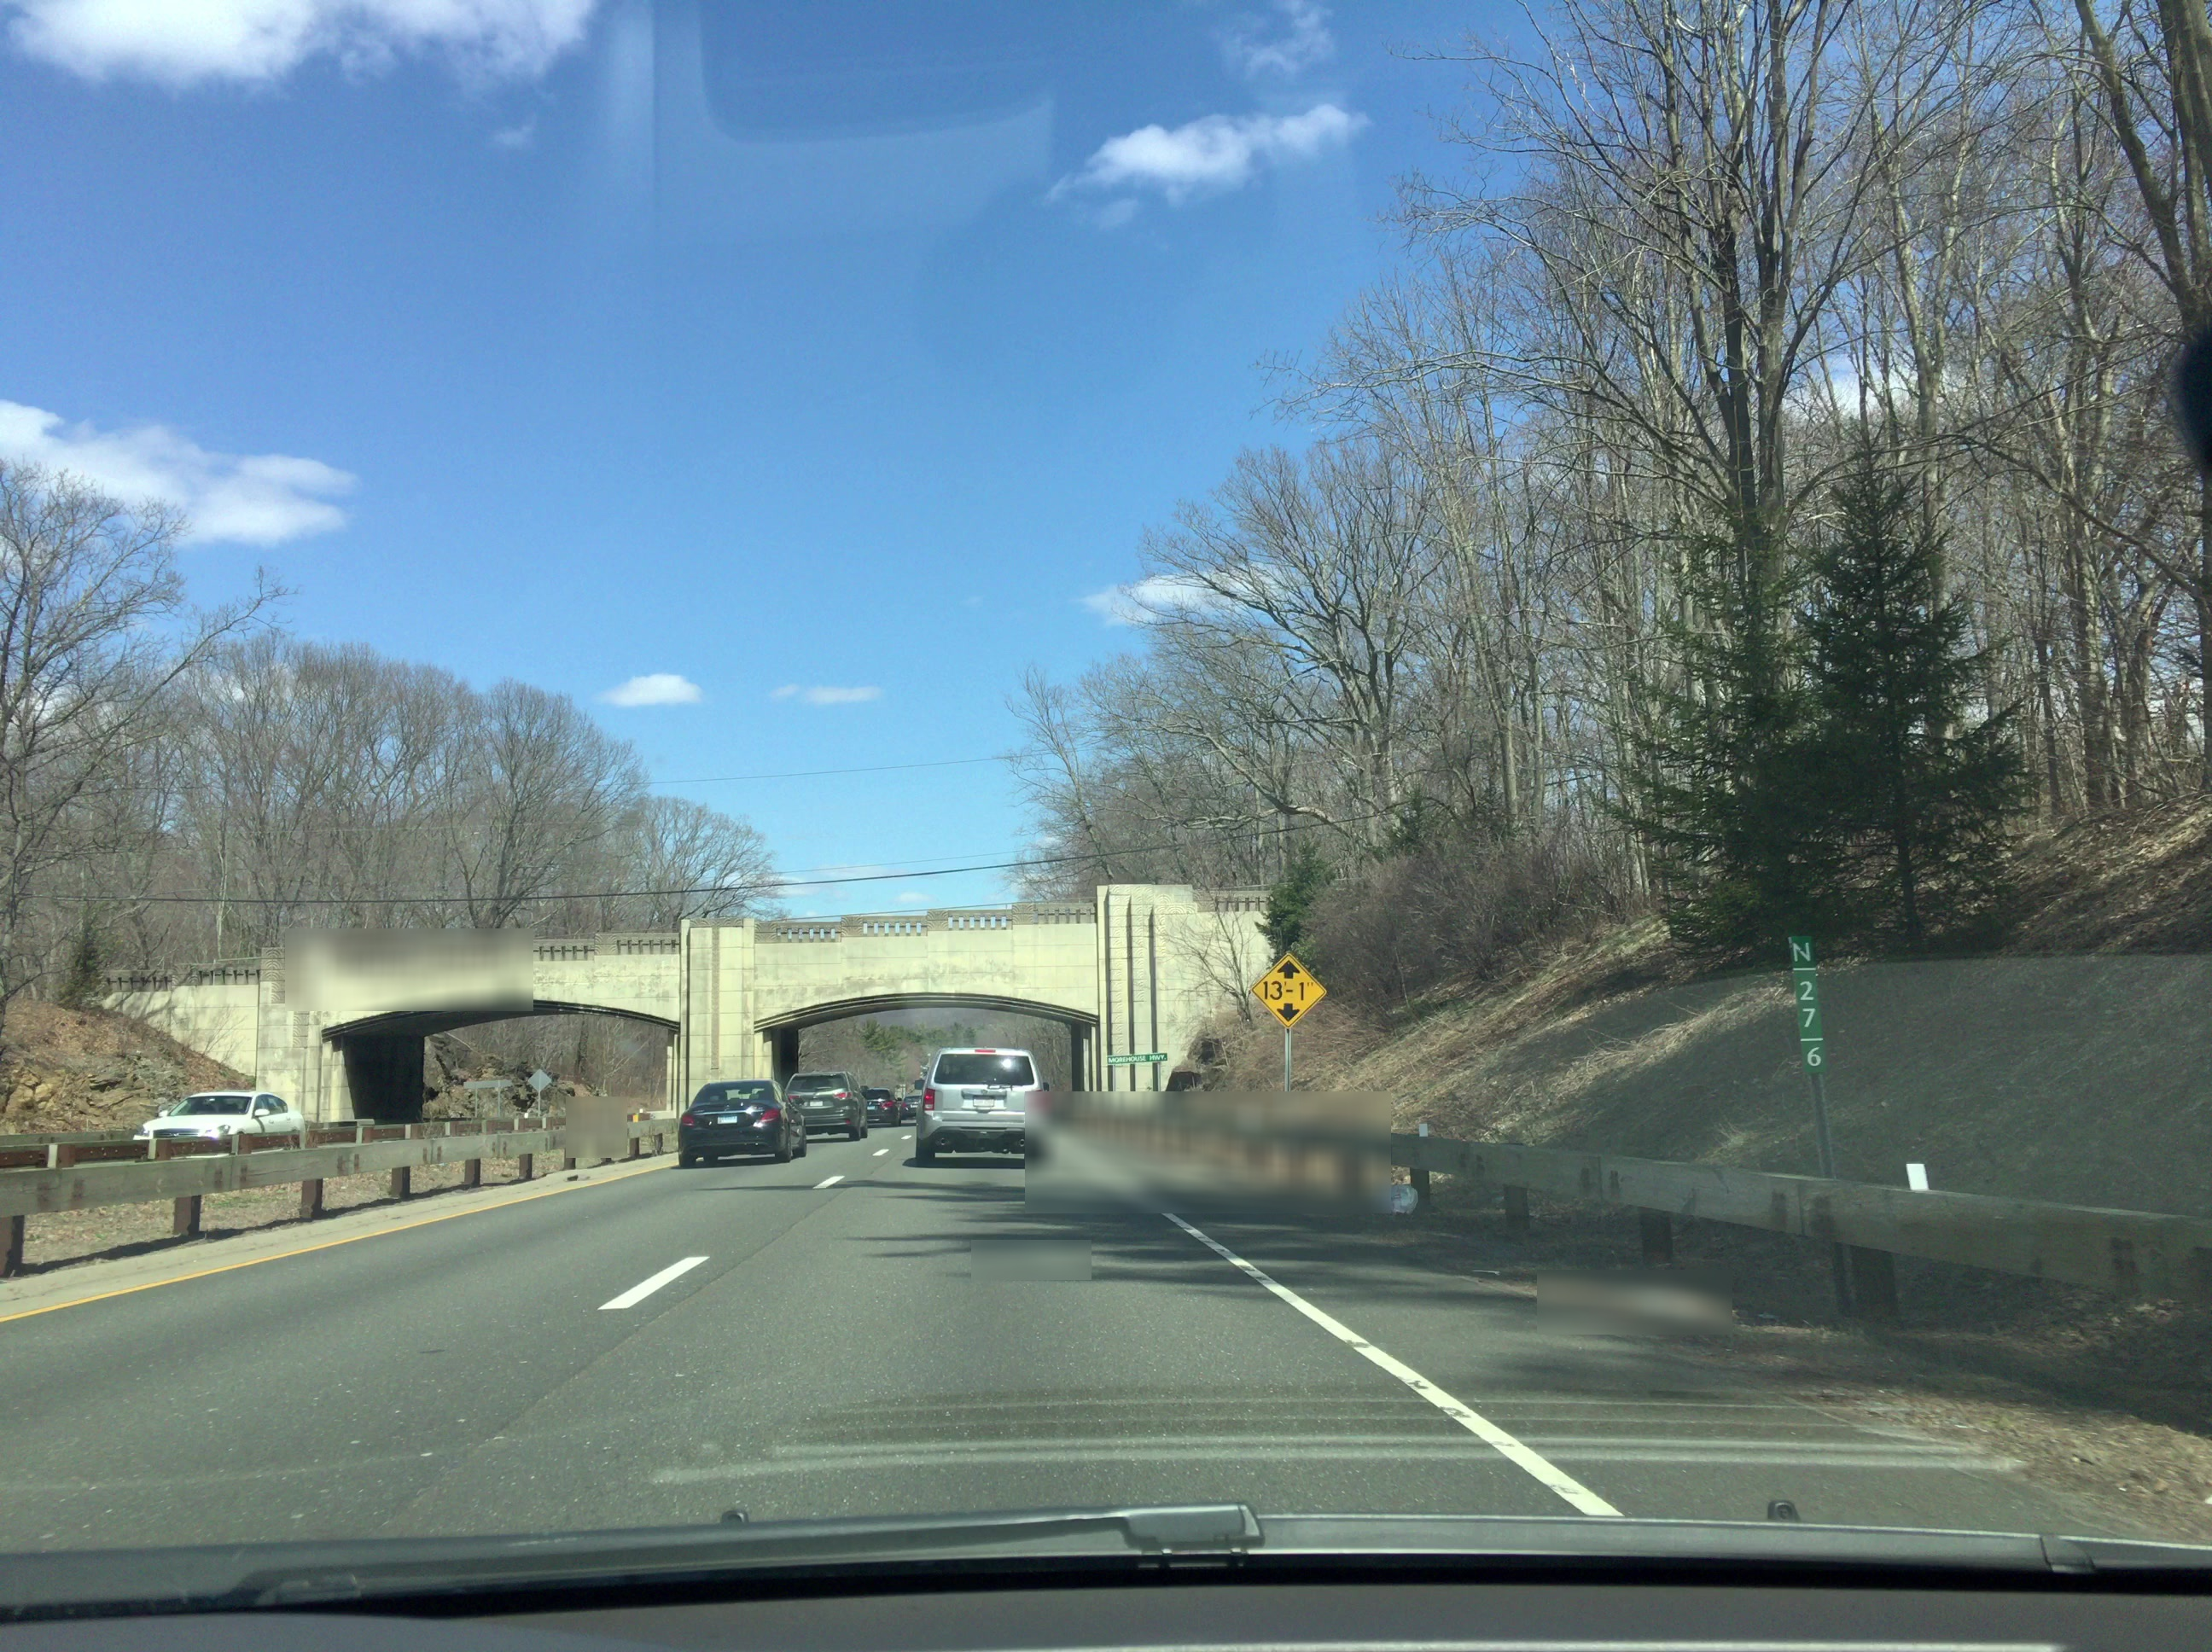low-clearance-sign: (1251, 953, 1329, 1031)
